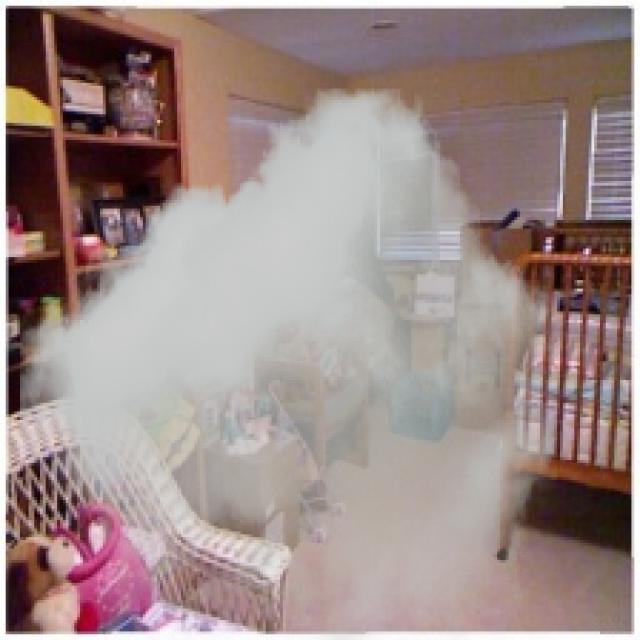smoke: (20, 89, 560, 637)
